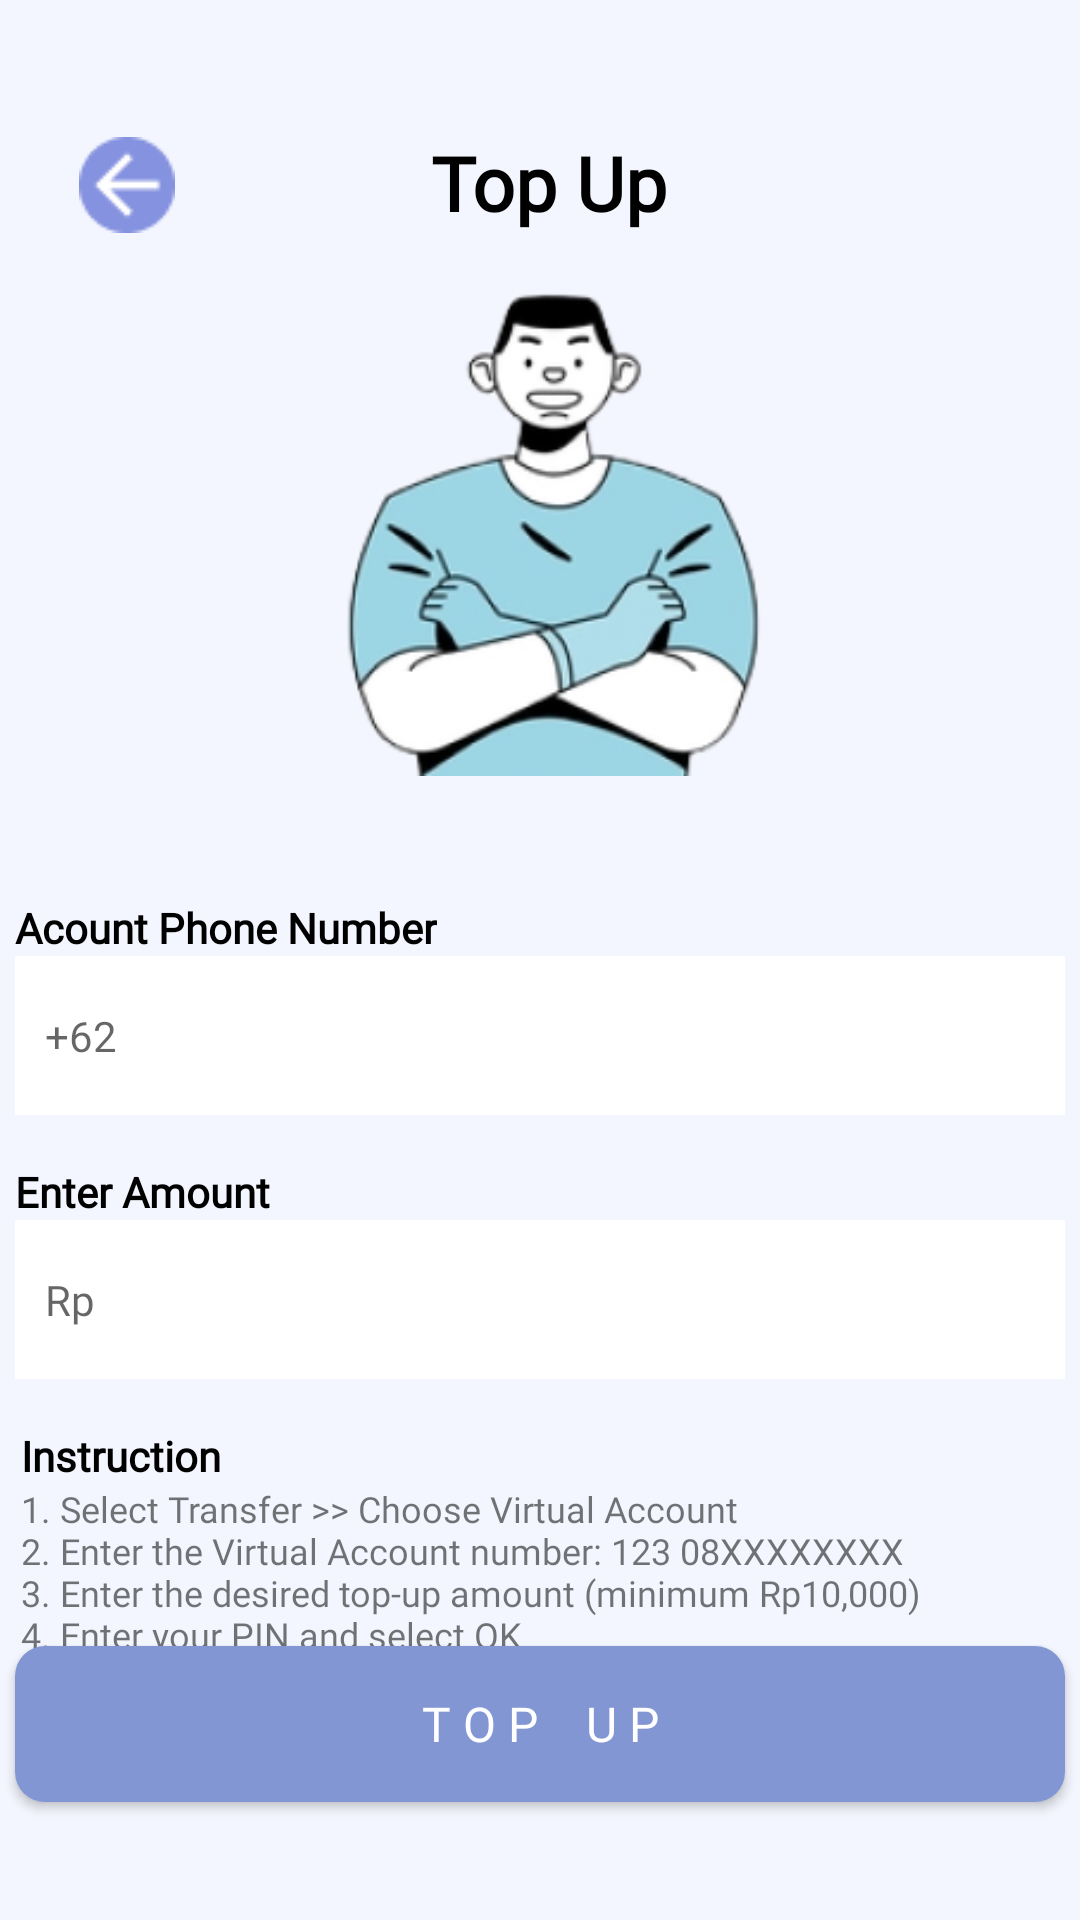

Named icons in this screenshot (1080x1920) and their bounding boxes, box(x1, y1, x2, y2):
backungu: box(79, 137, 175, 233)
